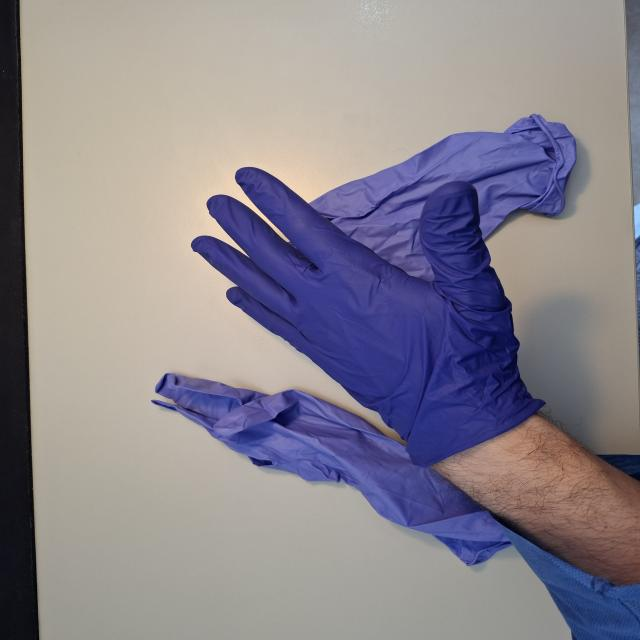glove_on: (186, 163, 542, 464)
